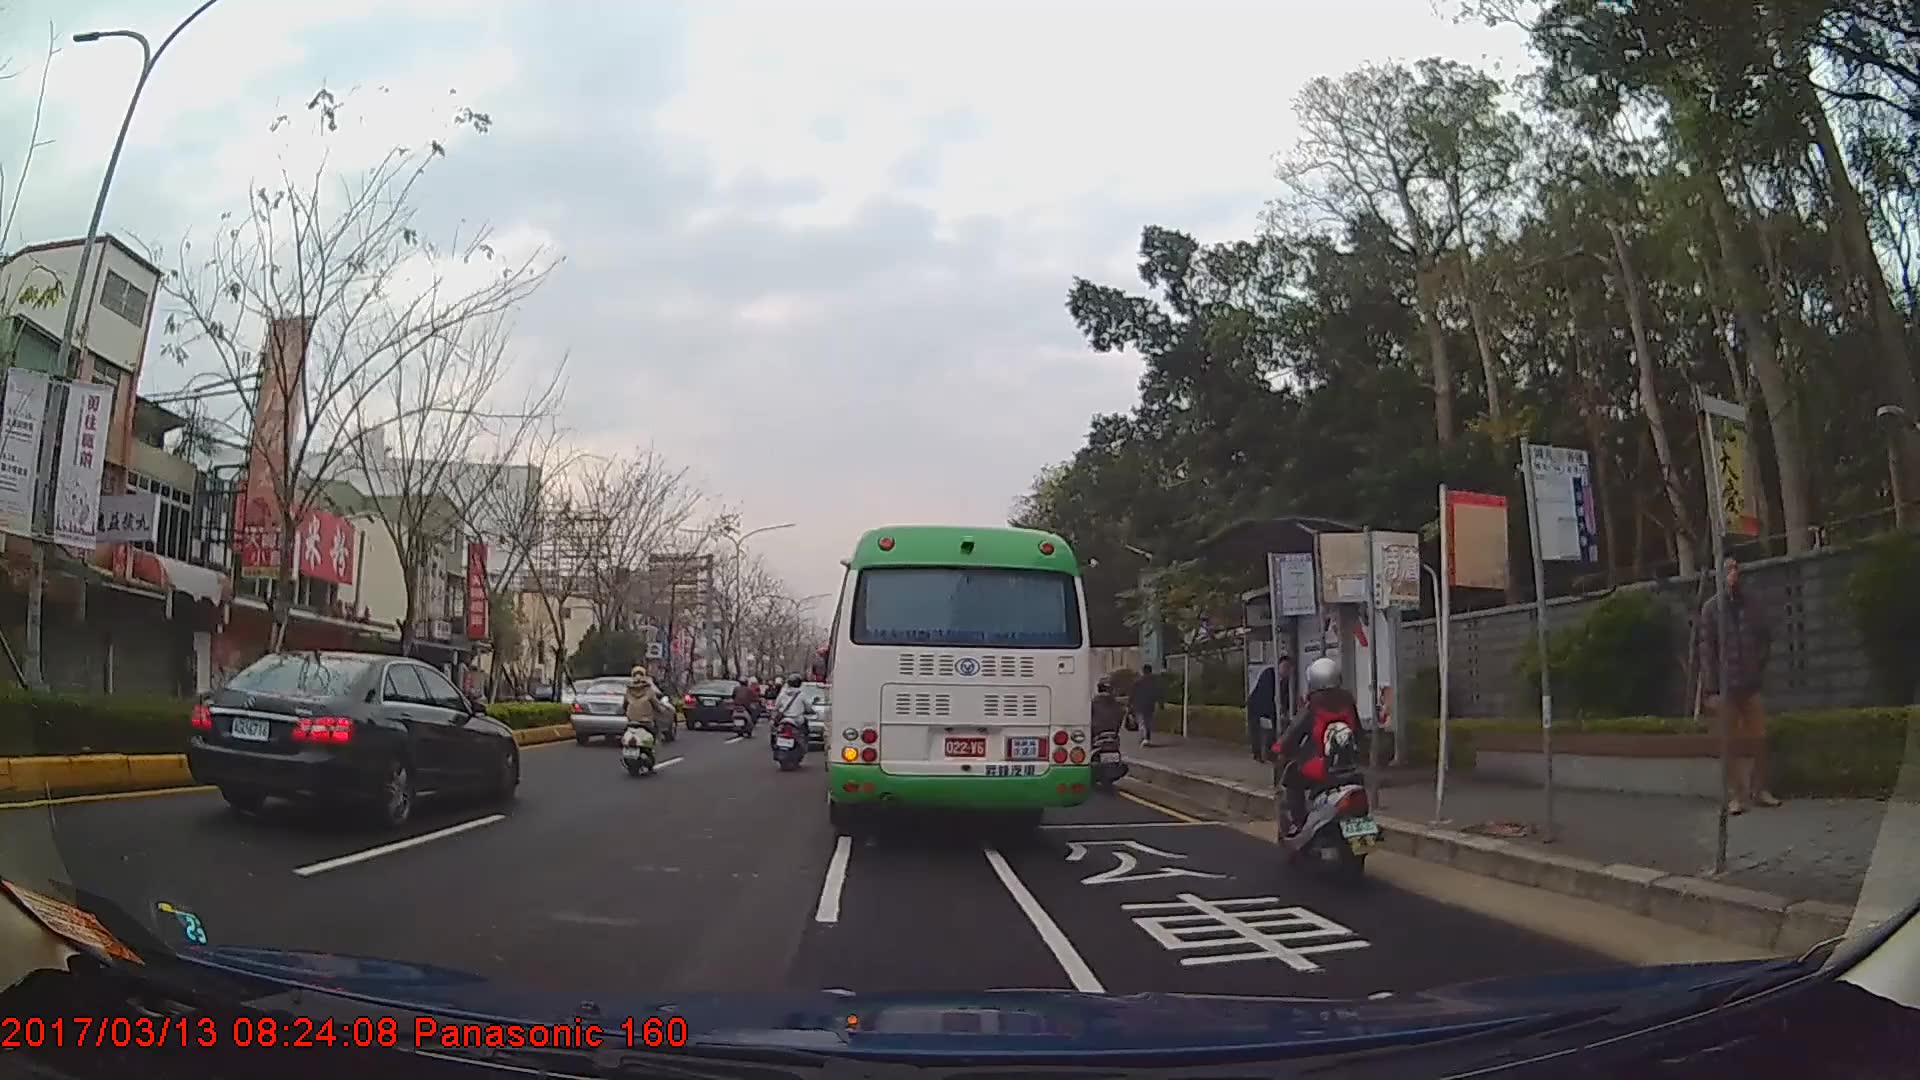pedestrian: (1700, 558, 1777, 817), (1245, 653, 1301, 764), (1129, 661, 1167, 747)
rider: (1272, 654, 1385, 882), (1087, 676, 1138, 794), (622, 664, 671, 775), (776, 673, 819, 772), (733, 676, 761, 737)
vehicle: (823, 524, 1096, 833), (184, 647, 519, 830), (571, 674, 678, 745), (685, 676, 752, 730)
